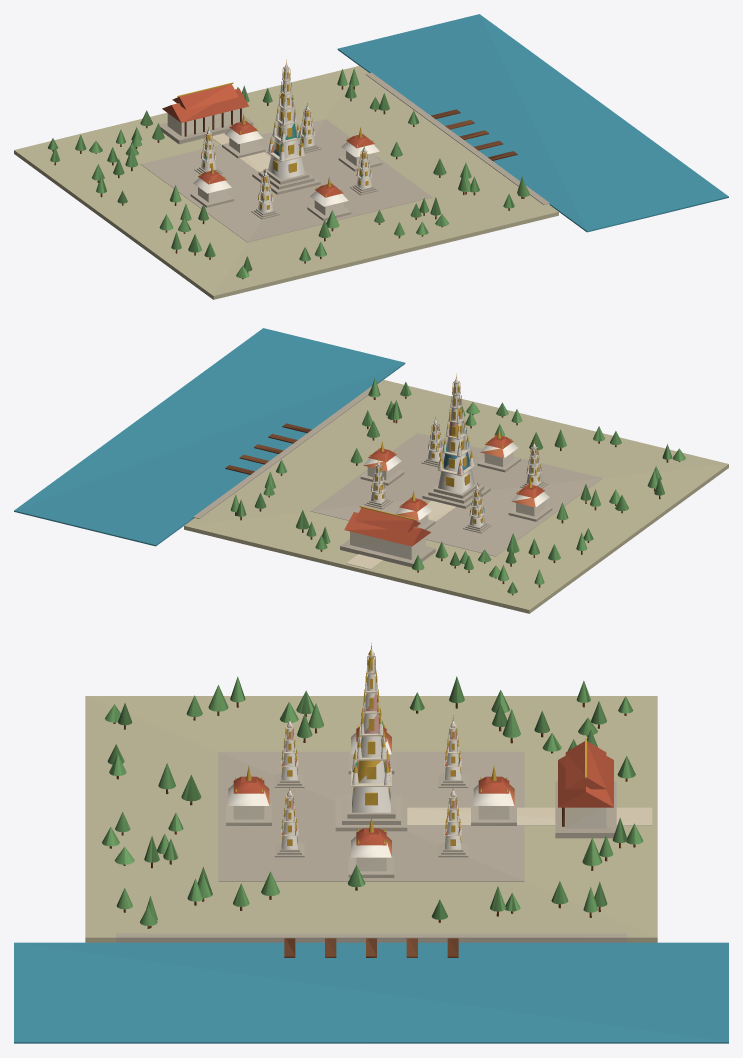
Rendered from wat-arun-stylized.glb.
The picture shows the model from 3 angles, top to bottom: view 1: azimuth 30°, elevation 25°; view 2: azimuth 150°, elevation 25°; view 3: azimuth 270°, elevation 25°; orthographic projection. The views are drawn at different scales.
Visible parts, largest first — view 1: WAT-ARUN.GROUND_LOD0, WAT-ARUN.RIVER_LOD0, WAT-ARUN.UBOSOT_LOD0, WAT-ARUN.PRANG.MAIN_LOD0, WAT-ARUN.MANDAPA.03_LOD0, WAT-ARUN.MANDAPA.04_LOD0, WAT-ARUN.MANDAPA.01_LOD0, WAT-ARUN.MANDAPA.02_LOD0, WAT-ARUN.PRANG.SAT-01_LOD0, WAT-ARUN.PRANG.SAT-02_LOD0, WAT-ARUN.PRANG.SAT-04_LOD0, WAT-ARUN.PRANG.SAT-03_LOD0; view 2: WAT-ARUN.GROUND_LOD0, WAT-ARUN.RIVER_LOD0, WAT-ARUN.UBOSOT_LOD0, WAT-ARUN.PRANG.MAIN_LOD0, WAT-ARUN.MANDAPA.01_LOD0, WAT-ARUN.MANDAPA.04_LOD0, WAT-ARUN.MANDAPA.02_LOD0, WAT-ARUN.MANDAPA.03_LOD0, WAT-ARUN.PRANG.SAT-04_LOD0, WAT-ARUN.PRANG.SAT-03_LOD0, WAT-ARUN.PRANG.SAT-01_LOD0, WAT-ARUN.PRANG.SAT-02_LOD0; view 3: WAT-ARUN.GROUND_LOD0, WAT-ARUN.RIVER_LOD0, WAT-ARUN.PRANG.MAIN_LOD0, WAT-ARUN.UBOSOT_LOD0, WAT-ARUN.MANDAPA.01_LOD0, WAT-ARUN.MANDAPA.03_LOD0, WAT-ARUN.MANDAPA.02_LOD0, WAT-ARUN.PRANG.SAT-01_LOD0, WAT-ARUN.PRANG.SAT-04_LOD0, WAT-ARUN.PRANG.SAT-02_LOD0, WAT-ARUN.PRANG.SAT-03_LOD0.
Part boxes in pixels (<box>): WAT-ARUN.GROUND_LOD0: <box>14,65,558,299</box>; WAT-ARUN.RIVER_LOD0: <box>337,14,728,232</box>; WAT-ARUN.UBOSOT_LOD0: <box>159,82,253,144</box>; WAT-ARUN.PRANG.MAIN_LOD0: <box>252,60,320,194</box>; WAT-ARUN.MANDAPA.03_LOD0: <box>222,114,265,158</box>; WAT-ARUN.MANDAPA.04_LOD0: <box>190,163,234,207</box>; WAT-ARUN.MANDAPA.01_LOD0: <box>307,177,351,220</box>; WAT-ARUN.MANDAPA.02_LOD0: <box>338,127,382,171</box>; WAT-ARUN.PRANG.SAT-01_LOD0: <box>350,144,378,195</box>; WAT-ARUN.PRANG.SAT-02_LOD0: <box>251,168,279,219</box>; WAT-ARUN.PRANG.SAT-04_LOD0: <box>298,103,321,153</box>; WAT-ARUN.PRANG.SAT-03_LOD0: <box>194,127,222,174</box>; WAT-ARUN.GROUND_LOD0: <box>184,378,728,613</box>; WAT-ARUN.RIVER_LOD0: <box>14,328,405,546</box>; WAT-ARUN.UBOSOT_LOD0: <box>340,506,435,567</box>; WAT-ARUN.PRANG.MAIN_LOD0: <box>422,374,490,508</box>; WAT-ARUN.MANDAPA.01_LOD0: <box>477,428,520,472</box>; WAT-ARUN.MANDAPA.04_LOD0: <box>508,477,552,521</box>; WAT-ARUN.MANDAPA.02_LOD0: <box>360,441,404,485</box>; WAT-ARUN.MANDAPA.03_LOD0: <box>395,491,435,529</box>; WAT-ARUN.PRANG.SAT-04_LOD0: <box>364,458,392,509</box>; WAT-ARUN.PRANG.SAT-03_LOD0: <box>463,482,491,533</box>; WAT-ARUN.PRANG.SAT-01_LOD0: <box>421,417,444,467</box>; WAT-ARUN.PRANG.SAT-02_LOD0: <box>520,441,548,488</box>; WAT-ARUN.GROUND_LOD0: <box>85,676,657,942</box>; WAT-ARUN.RIVER_LOD0: <box>14,933,728,1043</box>; WAT-ARUN.PRANG.MAIN_LOD0: <box>335,642,407,831</box>; WAT-ARUN.UBOSOT_LOD0: <box>555,738,616,838</box>; WAT-ARUN.MANDAPA.01_LOD0: <box>226,765,271,825</box>; WAT-ARUN.MANDAPA.03_LOD0: <box>471,765,516,825</box>; WAT-ARUN.MANDAPA.02_LOD0: <box>348,817,394,877</box>; WAT-ARUN.PRANG.SAT-01_LOD0: <box>274,784,304,857</box>; WAT-ARUN.PRANG.SAT-04_LOD0: <box>438,784,468,857</box>; WAT-ARUN.PRANG.SAT-02_LOD0: <box>274,715,304,787</box>; WAT-ARUN.PRANG.SAT-03_LOD0: <box>438,715,468,787</box>.
Size of what is drawn, in the model's own units: 159 by 39.11 by 140.
